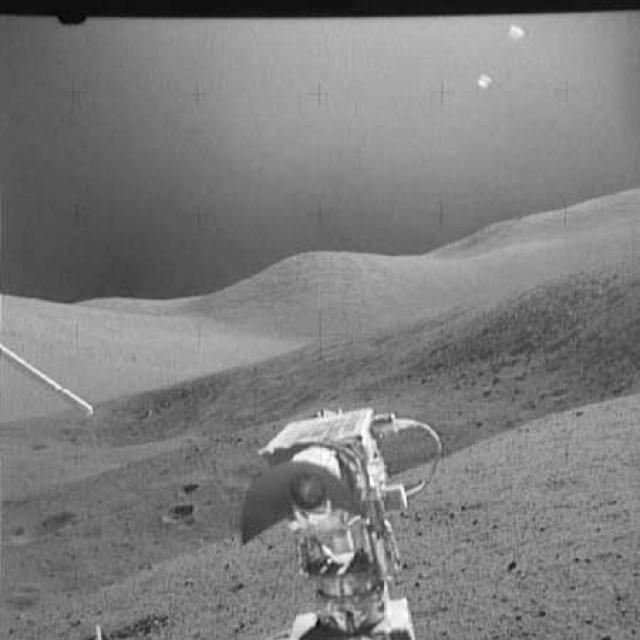artifact: (240, 404, 464, 638), (0, 343, 96, 426)
crater: (3, 510, 85, 545), (157, 497, 200, 525), (171, 473, 204, 497)
